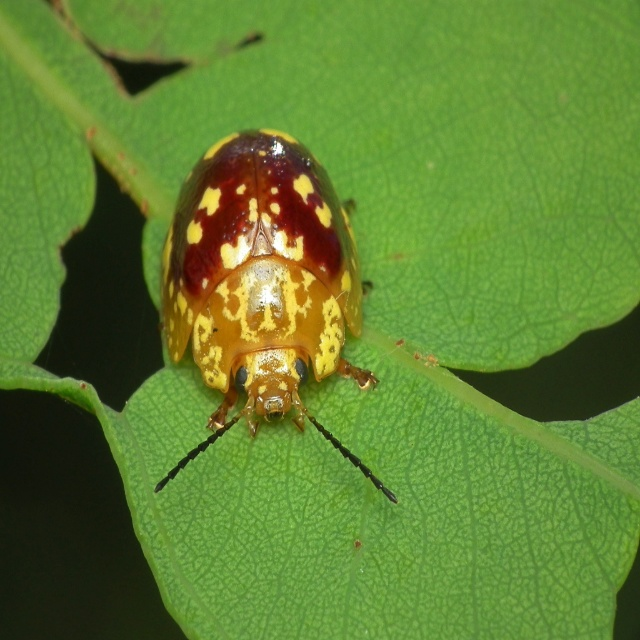Ladybug: (156, 123, 403, 519)
